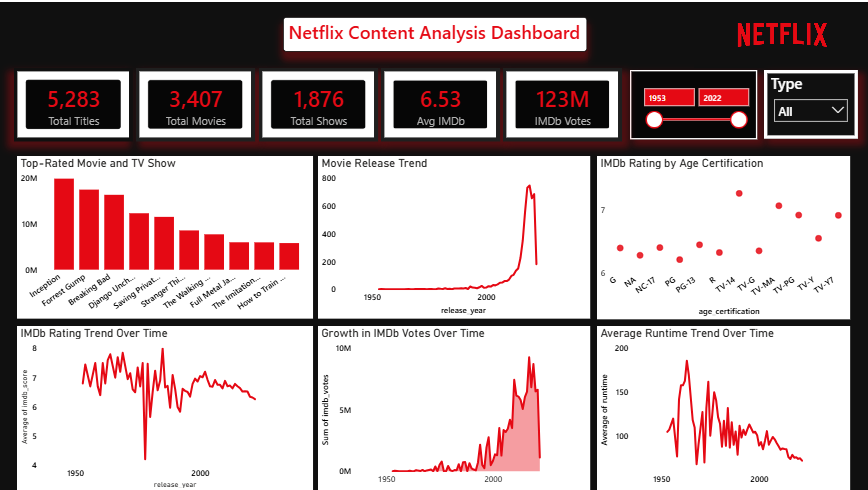

The page's visual inventory and layout, read from the dashboard file:
{"tool":"powerbi","page":{"name":"Dashboard","canvas":[1280,720],"ordinal":0},"visuals":[{"type":"clusteredColumnChart","title":"Top-Rated Movie and TV Show","fields":{"Category":["Netflix TV Shows and Movies.title"],"Y":["Avg(Netflix TV Shows and Movies.Score_votes)"]},"box":[26.9,225.6,434.7,239],"z":0},{"type":"lineChart","title":"Movie Release Trend","fields":{"Category":["Netflix TV Shows and Movies.release_year"],"Y":["Count(Netflix TV Shows and Movies.id)"]},"box":[469,225.6,400.3,239],"z":1000},{"type":"slicer","fields":{"Values":["Netflix TV Shows and Movies.release_year"]},"box":[927.6,100.1,186.7,101.6],"z":2000},{"type":"slicer","fields":{"Values":["Netflix TV Shows and Movies.type"]},"box":[1126.3,100.1,119.5,101.6],"z":3000},{"type":"lineChart","title":"IMDb Rating Trend Over Time","fields":{"Category":["Netflix TV Shows and Movies.release_year"],"Y":["Avg(Netflix TV Shows and Movies.imdb_score)"]},"box":[26.9,476.5,434.7,243.5],"z":4000},{"type":"areaChart","title":"Growth in IMDb Votes Over Time","fields":{"Category":["Netflix TV Shows and Movies.release_year"],"Y":["Sum(Netflix TV Shows and Movies.imdb_votes)"]},"box":[469,476.5,400.3,243.5],"z":5000},{"type":"lineChart","title":"Average Runtime Trend Over Time","fields":{"Y":["Avg(Netflix TV Shows and Movies.runtime)"],"Category":["Netflix TV Shows and Movies.release_year"]},"box":[878.3,476.5,372,243.5],"z":6000},{"type":"scatterChart","title":"IMDb Rating by Age Certification","fields":{"Y":["Avg(Netflix TV Shows and Movies.imdb_score)"],"X":["Netflix TV Shows and Movies (2).age_certification"]},"box":[878.7,226.3,371.8,239.5],"z":7000},{"type":"cardVisual","fields":{"Data":["Netflix TV Shows and Movies.Total Titles"]},"box":[22.4,97.1,174.8,107.6],"z":8000},{"type":"cardVisual","fields":{"Data":["Netflix TV Shows and Movies.Total Movies"]},"box":[202,97.1,174.8,107.6],"z":9000},{"type":"cardVisual","fields":{"Data":["Netflix TV Shows and Movies.Total Shows"]},"box":[381.7,97.1,174.8,107.6],"z":10000},{"type":"cardVisual","fields":{"Data":["Netflix TV Shows and Movies.Avg IMDb Rating"]},"box":[561.3,97.1,174.8,107.6],"z":11000},{"type":"cardVisual","fields":{"Data":["Netflix TV Shows and Movies.Total IMDb Votes"]},"box":[740.9,97.1,174.8,107.6],"z":12000},{"type":"textbox","title":"Netflix Content Analysis Dashboard","box":[417.3,22,446.7,51.4],"z":13000},{"type":"image","box":[1021.2,0,258.6,97],"z":14000}]}

Visuals, with their boxes in screenshot pixels (x1, y1, x2, y2), scaled from the page's 1280x720 canvas onto the 868x490 screenshot:
"Top-Rated Movie and TV Show" clusteredColumnChart: left=18, top=154, right=313, bottom=316
"Movie Release Trend" lineChart: left=318, top=154, right=589, bottom=316
slicer - Netflix TV Shows and Movies.release_year: left=629, top=68, right=756, bottom=137
slicer - Netflix TV Shows and Movies.type: left=764, top=68, right=845, bottom=137
"IMDb Rating Trend Over Time" lineChart: left=18, top=324, right=313, bottom=489
"Growth in IMDb Votes Over Time" areaChart: left=318, top=324, right=589, bottom=489
"Average Runtime Trend Over Time" lineChart: left=596, top=324, right=848, bottom=489
"IMDb Rating by Age Certification" scatterChart: left=596, top=154, right=848, bottom=317
cardVisual - Netflix TV Shows and Movies.Total Titles: left=15, top=66, right=134, bottom=139
cardVisual - Netflix TV Shows and Movies.Total Movies: left=137, top=66, right=256, bottom=139
cardVisual - Netflix TV Shows and Movies.Total Shows: left=259, top=66, right=377, bottom=139
cardVisual - Netflix TV Shows and Movies.Avg IMDb Rating: left=381, top=66, right=499, bottom=139
cardVisual - Netflix TV Shows and Movies.Total IMDb Votes: left=502, top=66, right=621, bottom=139
"Netflix Content Analysis Dashboard" textbox: left=283, top=15, right=586, bottom=50
image: left=693, top=0, right=867, bottom=66
